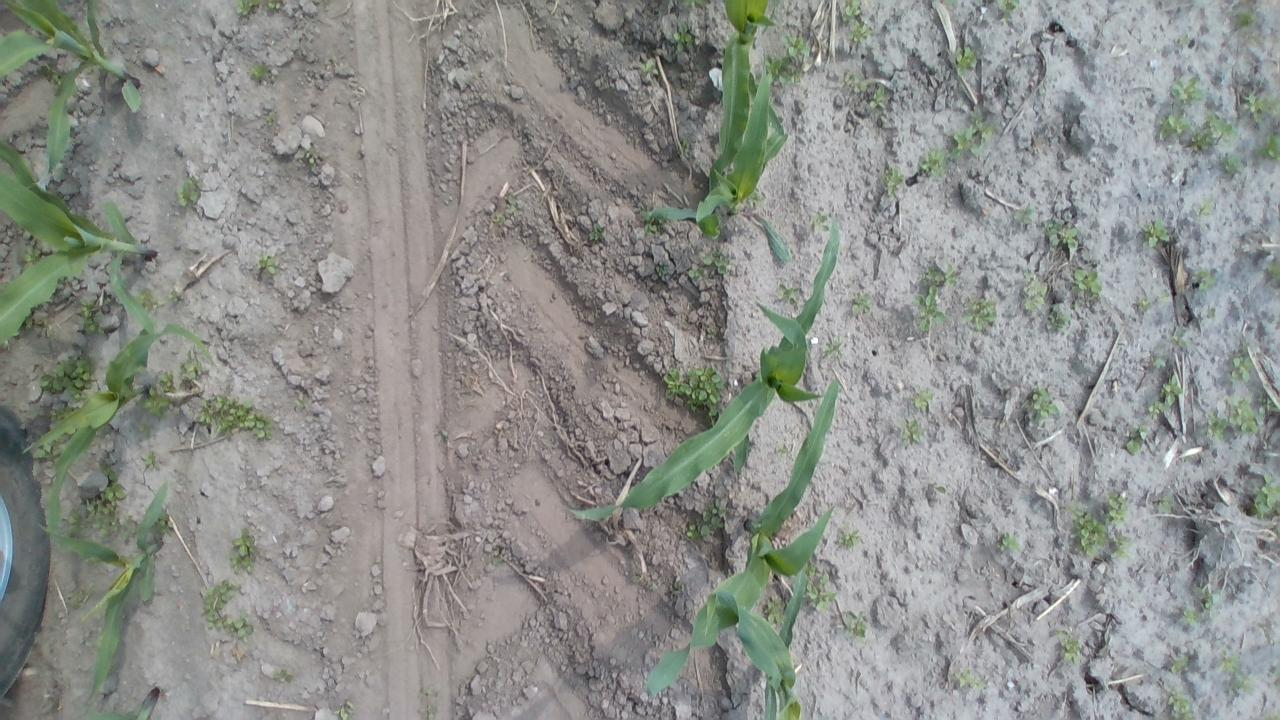Maize: (564, 216, 846, 522), (643, 376, 844, 702), (19, 323, 208, 544), (0, 136, 161, 355), (37, 480, 177, 703), (639, 66, 794, 262), (0, 0, 144, 187), (704, 571, 814, 720), (717, 0, 776, 190), (84, 687, 170, 720)
Weeds: (67, 458, 143, 544), (196, 393, 275, 442), (662, 364, 726, 417), (914, 263, 960, 336), (36, 350, 96, 398), (1225, 390, 1280, 434), (950, 111, 996, 157), (1188, 112, 1240, 151), (1068, 506, 1106, 556), (200, 580, 237, 630), (142, 369, 178, 418), (685, 505, 727, 540), (229, 527, 258, 576), (1249, 474, 1280, 518), (962, 299, 1002, 333), (1243, 90, 1280, 126), (1026, 382, 1060, 420), (765, 52, 804, 84), (1020, 273, 1050, 313), (808, 568, 835, 612), (1155, 110, 1192, 142), (76, 298, 106, 337), (1227, 346, 1256, 384), (1072, 266, 1104, 299), (1132, 289, 1174, 314), (1045, 221, 1080, 251), (232, 0, 292, 17), (1103, 490, 1131, 526), (1157, 373, 1184, 410), (1170, 75, 1202, 106), (1143, 218, 1173, 251), (1192, 586, 1222, 618), (1106, 528, 1134, 562), (416, 684, 442, 720), (919, 148, 950, 178), (175, 176, 202, 210), (1164, 689, 1194, 719), (954, 667, 989, 692), (178, 352, 206, 383), (1124, 424, 1151, 456), (1056, 632, 1084, 662), (781, 34, 810, 62), (954, 44, 980, 75), (880, 164, 906, 195), (1255, 132, 1280, 164), (840, 68, 870, 94), (702, 250, 732, 276), (64, 584, 95, 609), (1194, 266, 1220, 294), (1046, 306, 1072, 334), (896, 417, 922, 444), (670, 24, 695, 52), (136, 286, 164, 310), (1202, 410, 1226, 438), (226, 616, 254, 640), (836, 526, 864, 550), (36, 437, 66, 459), (778, 282, 804, 307), (849, 290, 874, 316), (911, 385, 936, 411), (1219, 154, 1246, 178), (248, 60, 277, 82), (844, 614, 868, 640), (762, 596, 786, 622), (632, 570, 662, 590), (1234, 8, 1261, 30), (1013, 202, 1037, 226), (39, 62, 62, 87), (1153, 492, 1176, 516), (156, 512, 176, 539), (998, 530, 1020, 554), (1262, 260, 1280, 289), (272, 664, 298, 684), (824, 338, 846, 361), (1230, 673, 1254, 694), (842, 1, 866, 22), (870, 84, 890, 109), (847, 22, 872, 42), (258, 253, 278, 278), (996, 0, 1022, 19), (638, 217, 665, 235), (1174, 323, 1192, 349), (20, 245, 43, 265), (1196, 197, 1216, 220), (1218, 650, 1240, 670), (588, 222, 606, 246), (809, 213, 830, 233), (139, 452, 160, 472), (336, 696, 355, 718), (1166, 654, 1189, 672), (50, 404, 74, 421), (746, 186, 766, 206), (678, 136, 696, 157), (642, 56, 658, 78), (504, 195, 523, 212), (492, 552, 512, 568), (1180, 606, 1196, 625), (652, 262, 669, 279), (686, 267, 704, 283), (295, 393, 310, 412), (930, 482, 947, 498), (169, 288, 186, 304), (1203, 304, 1219, 320), (304, 152, 322, 166), (776, 444, 792, 458), (1262, 709, 1280, 720), (492, 212, 506, 226), (138, 424, 152, 438), (1151, 356, 1166, 369), (266, 111, 278, 127), (439, 430, 452, 443), (705, 326, 717, 340)
